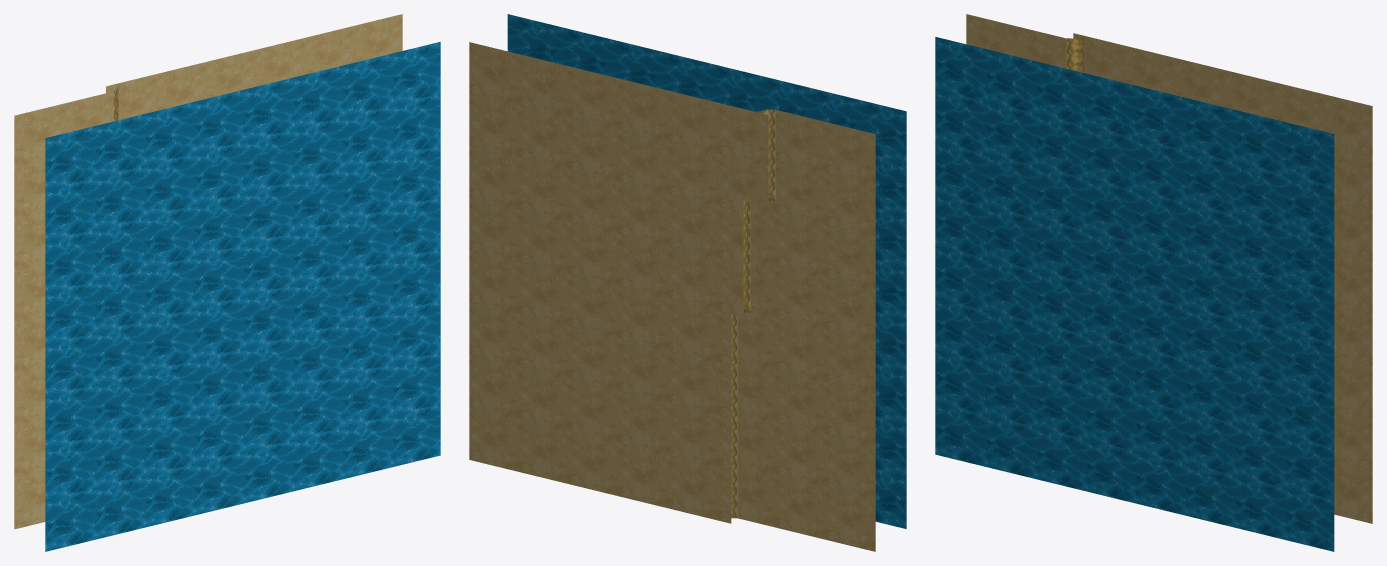
Rendered from HGRT-OW-v1_43_14.obj.
3 renders of one model, left to right at view 1: azimuth 30°, elevation 25°; view 2: azimuth 150°, elevation 25°; view 3: azimuth 330°, elevation 25°, orthographic.
Parts seen in each view (by area): view 1: map; view 2: map; view 3: map.
Boxes of the visible parts, left/top/right/bottom form: map: left=14, top=14, right=440, bottom=551; map: left=469, top=14, right=906, bottom=551; map: left=935, top=14, right=1372, bottom=551.
Size of the model in its own units: 32 by 32 by 5.31.
4 materials, 4 textured.
